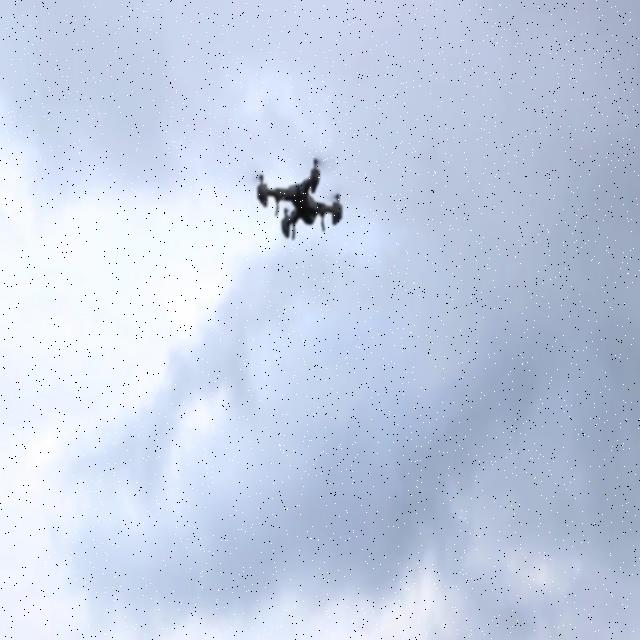UAV: (258, 156, 344, 241)
